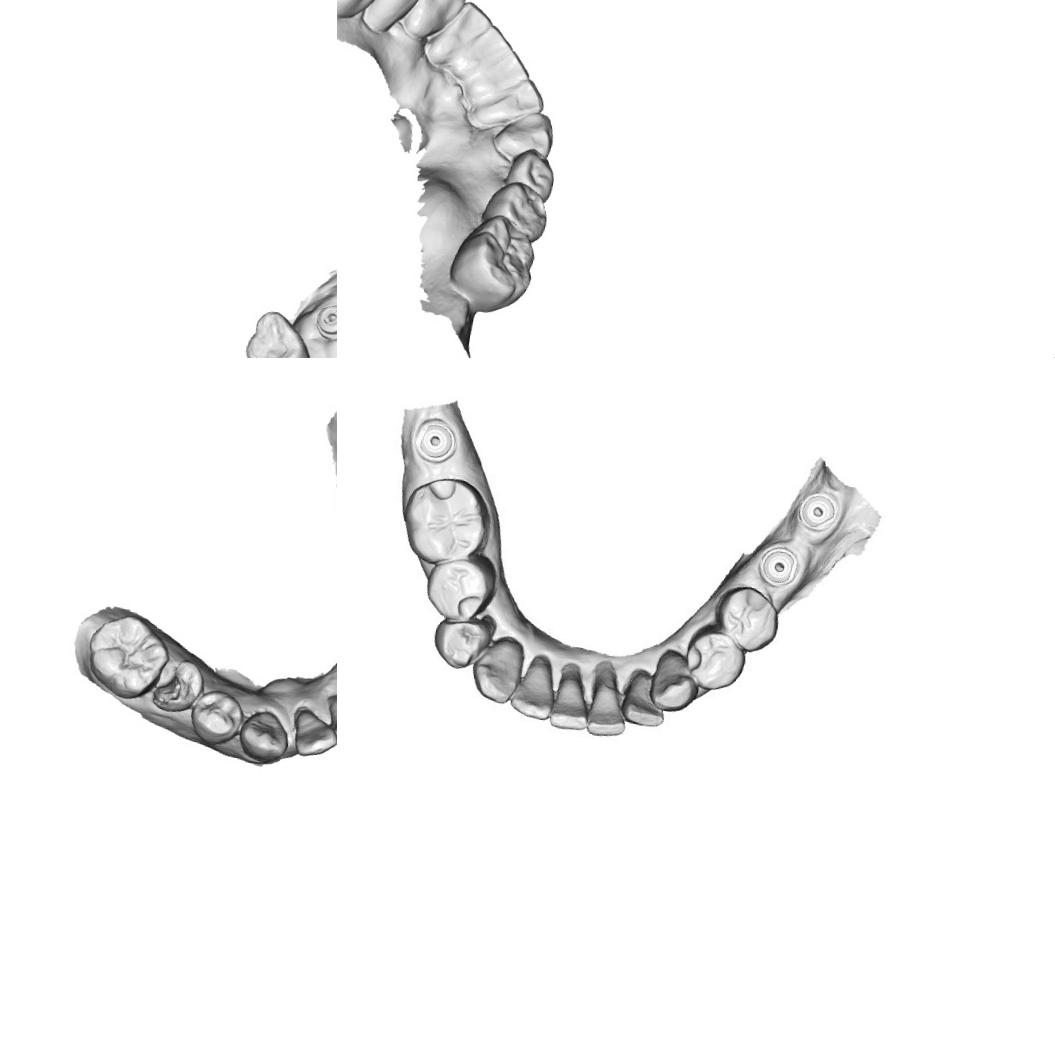canine: (470, 630, 530, 707), (488, 104, 560, 164), (646, 649, 702, 718), (235, 706, 293, 766), (402, 0, 468, 43)
implant: (406, 410, 462, 470), (752, 540, 808, 599), (794, 488, 846, 538)
implant_minus: (311, 300, 337, 342)
incisor: (584, 660, 634, 742), (616, 662, 671, 734), (509, 654, 557, 724), (549, 664, 596, 734), (481, 46, 539, 101), (489, 72, 549, 125), (287, 703, 337, 761), (463, 20, 515, 72), (445, 0, 497, 50), (322, 692, 337, 744)
molar: (444, 208, 542, 316), (399, 471, 496, 571), (82, 609, 174, 704), (241, 308, 318, 358)
premolar: (708, 580, 785, 656), (420, 553, 494, 628), (681, 627, 752, 696), (478, 176, 553, 241), (428, 609, 496, 674), (148, 654, 208, 719), (187, 686, 246, 748), (501, 145, 559, 205), (368, 0, 427, 30), (337, 0, 392, 27)
